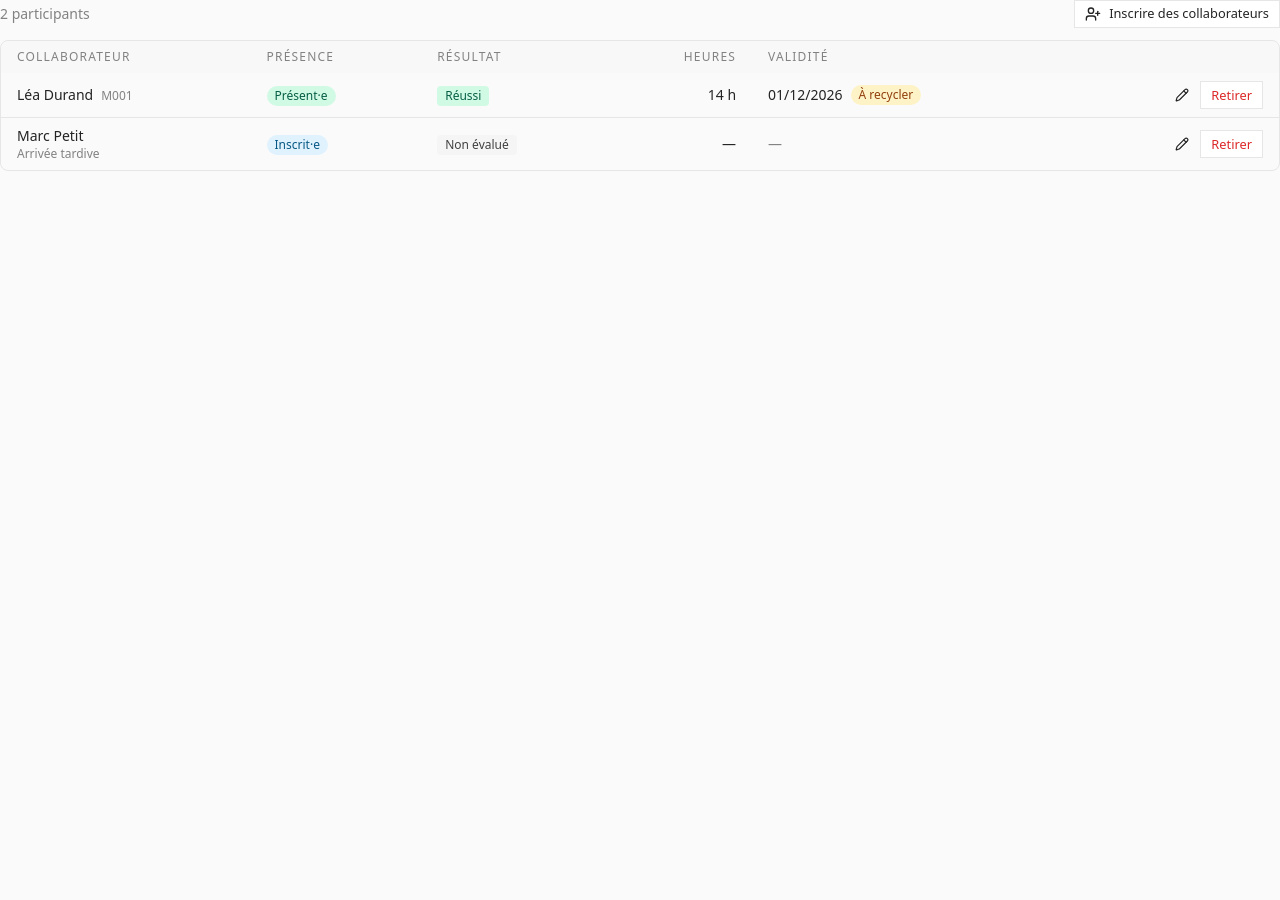
Test: InscriptionsSection › exige au moins une sélection
Click the button "Inscrire des collaborateurs". click: point(1177, 14)
box: x1=1074 y1=0 x2=1279 y2=28
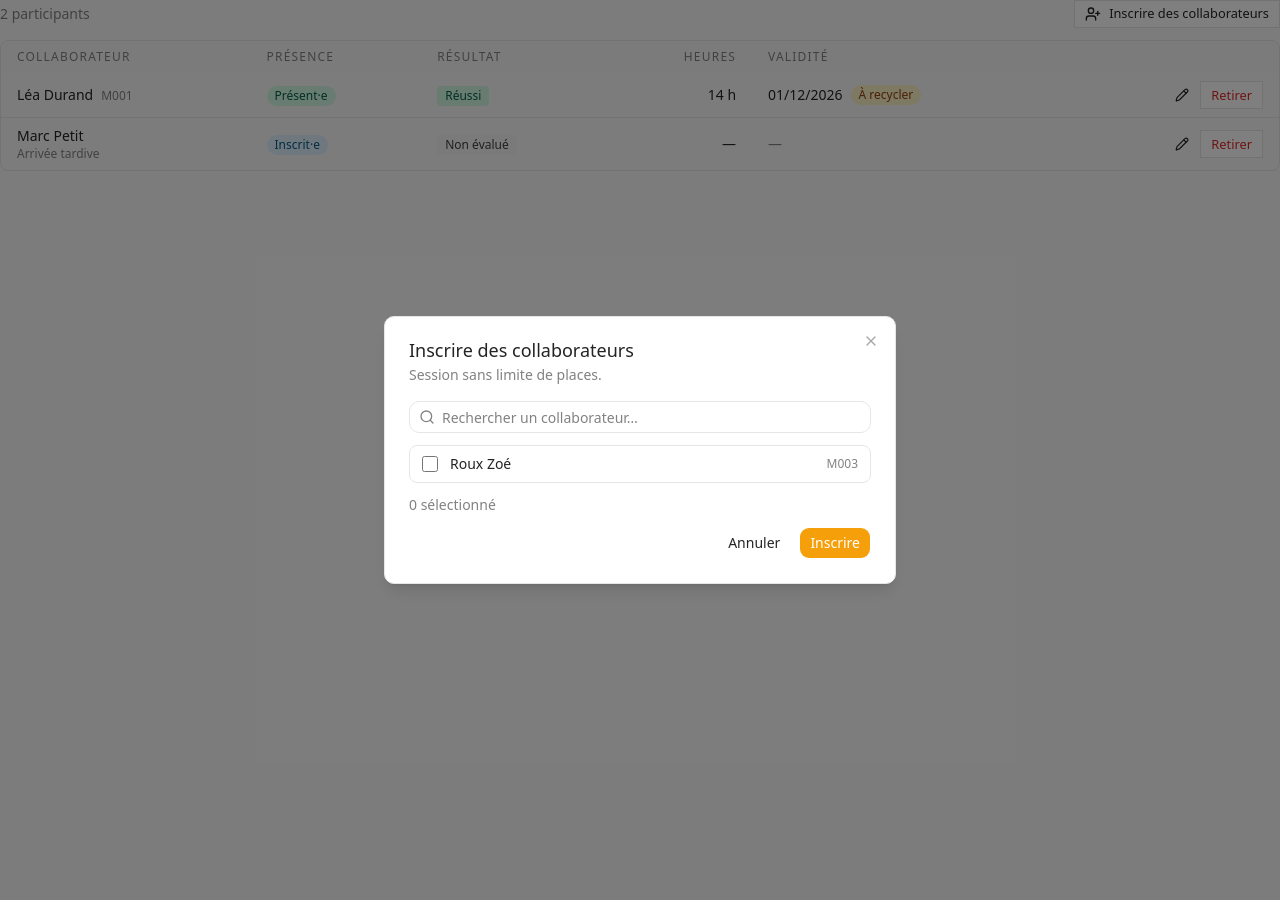
Click the button "Inscrire". click: point(835, 543)
box: x1=799 y1=527 x2=871 y2=559
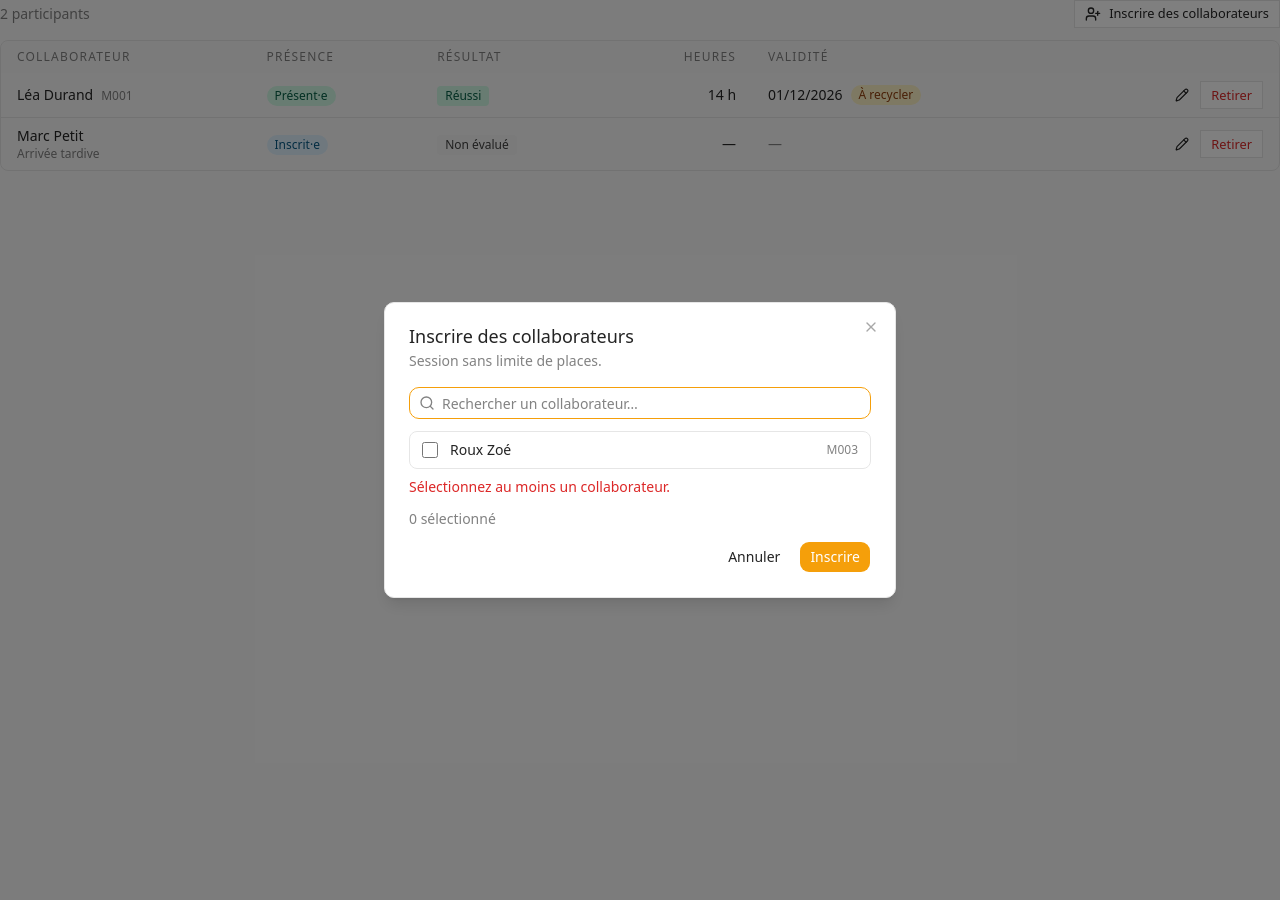
Result: the text "Sélectionnez au moins un collaborateur." is shown at x1=409 y1=477 x2=670 y2=496
